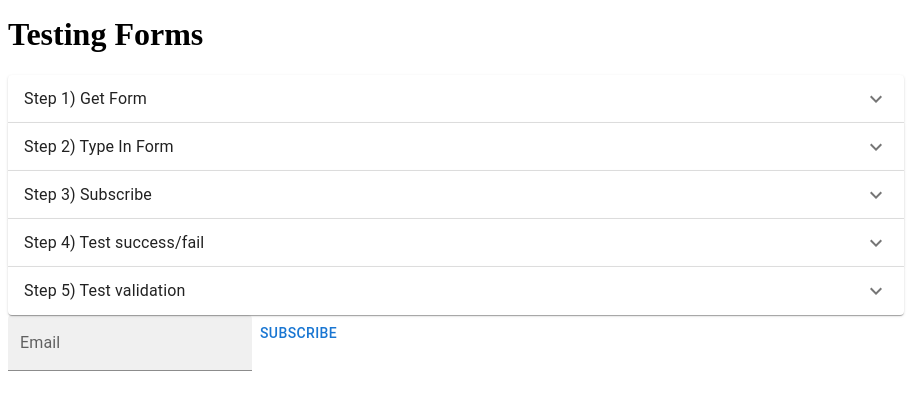
Test: Forms page › Forms
Expected: the heading "Testing Forms" is shown, [8,16,203,52]
Type "umair@gmail.com" into the field labelled "Email" at (130, 343), box [8,315,252,371]
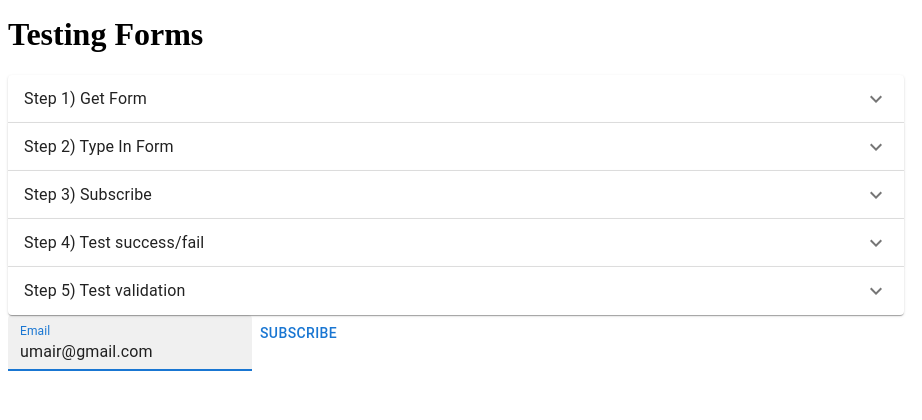
Click the button with test id "subscribe-button" at (299, 334), box [252,315,345,352]
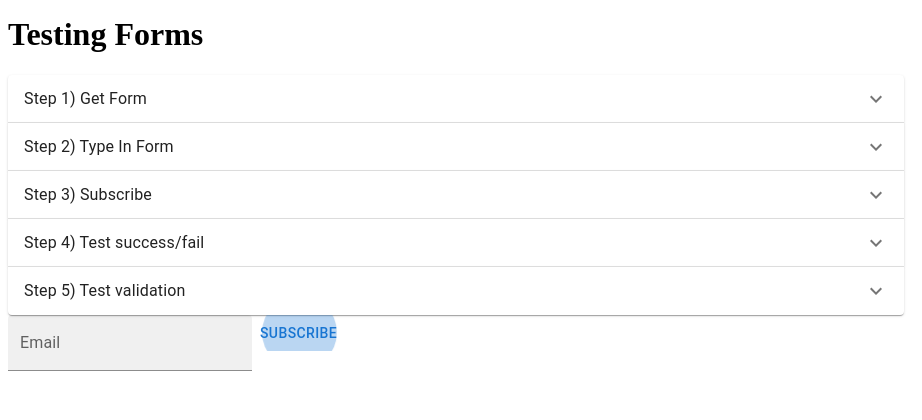
Type "umair@gmail.io" into the element with test id "subscribe-form" at (130, 343), box [8,315,252,371]
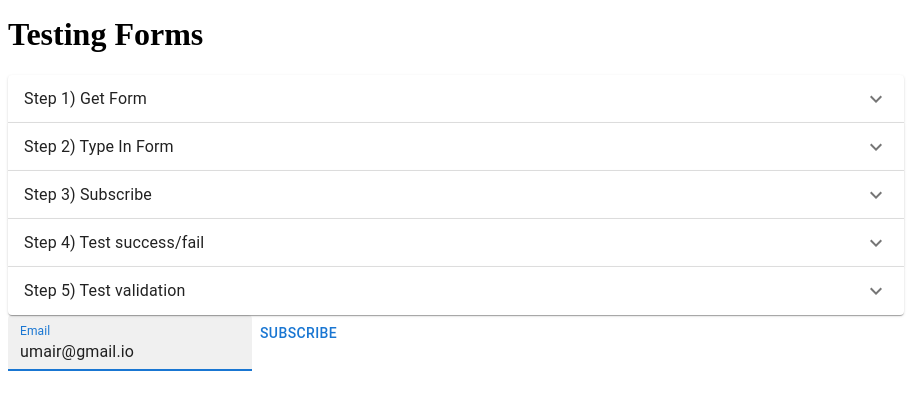
Click the button with test id "subscribe-button" at (299, 334), box [252,315,345,352]
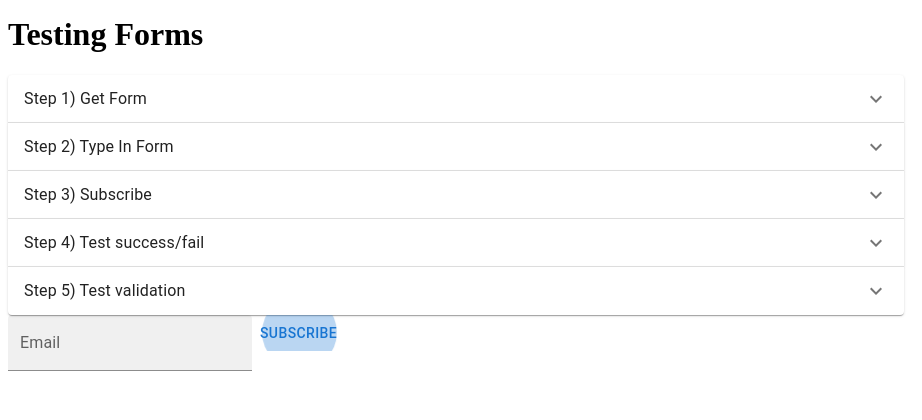
Expected: the text "Invalid email: !" is not shown
Click the button with test id "subscribe-button" at (299, 334), box [252,315,345,352]
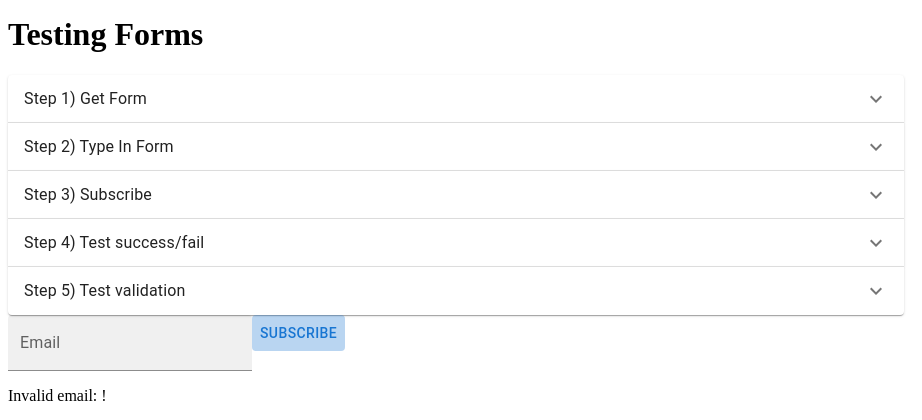
Now the text "Invalid email: !" is shown, box [8,387,107,404]
